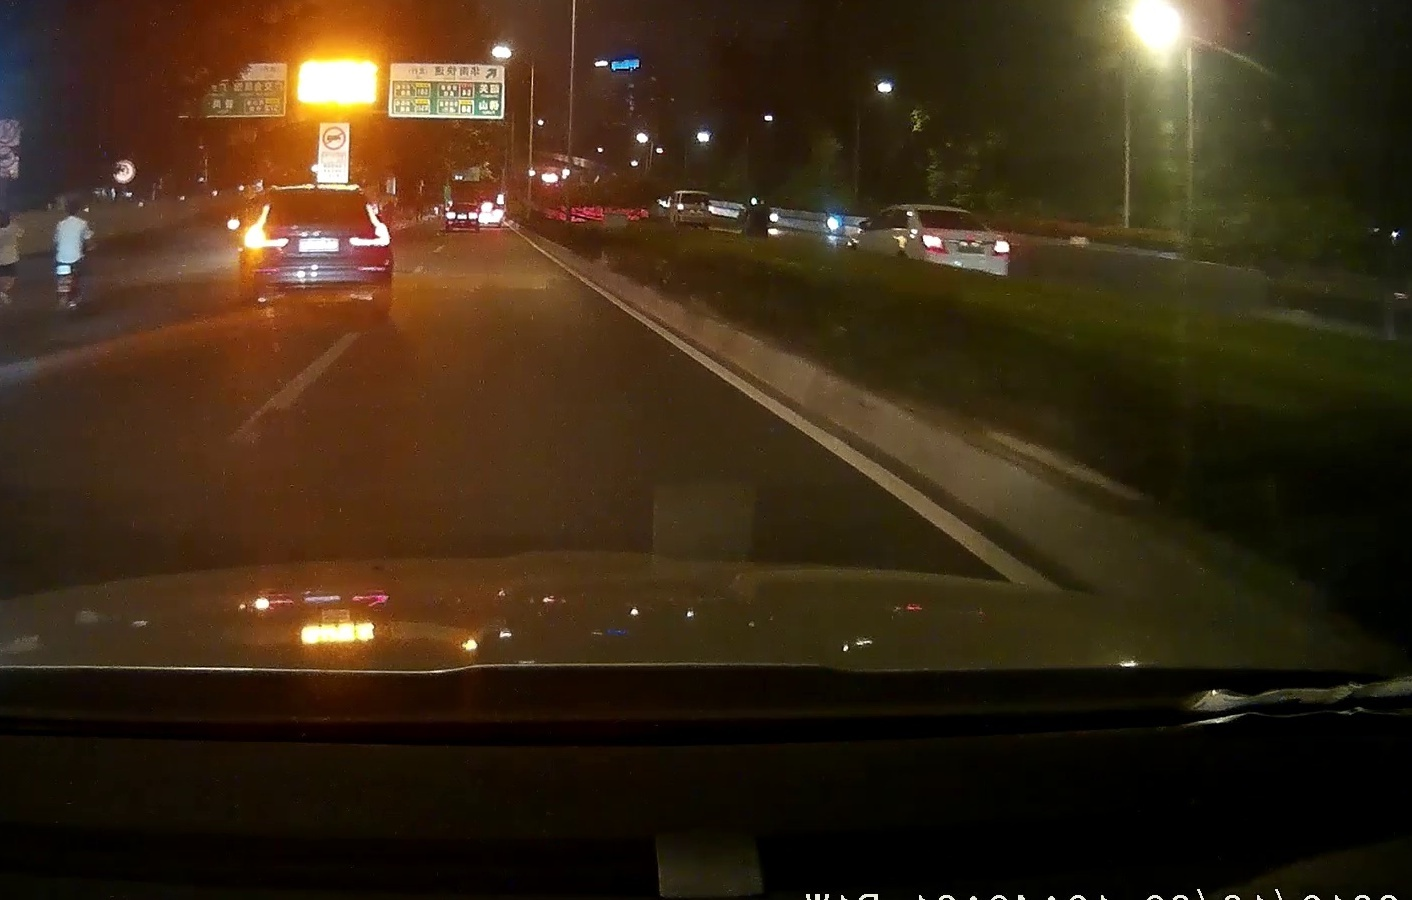L_light: (244, 204, 289, 248), (921, 235, 948, 254)
R_light: (349, 203, 390, 247), (991, 240, 1009, 256)
T_light: (303, 193, 326, 200), (941, 211, 953, 214)
night-left: (243, 185, 392, 307)
night-no: (913, 205, 1010, 277)
